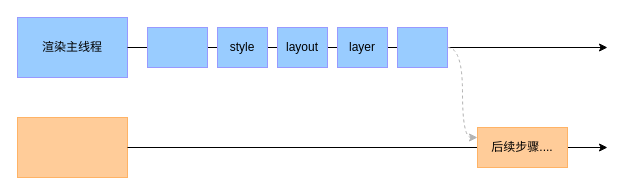
The diagram is 633 pixels wide and 195 high, and some of its shapes have lost their labels. The shapes that lost their labels are listed below. From the top down, each one's centre as x and y in pixels, then its label:
At (x=177, y=47): "parse".
At (x=422, y=47): "paint".
At (x=72, y=147): "其他线程".
